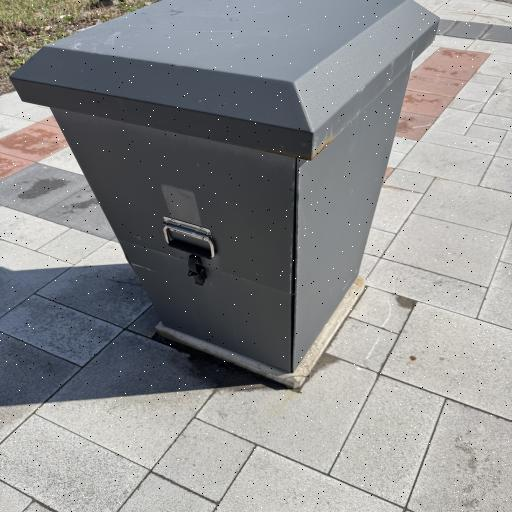Electrical Box: (14, 0, 443, 371)
